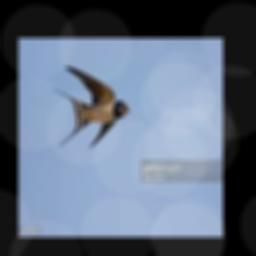Swallow: (53, 65, 130, 148)
